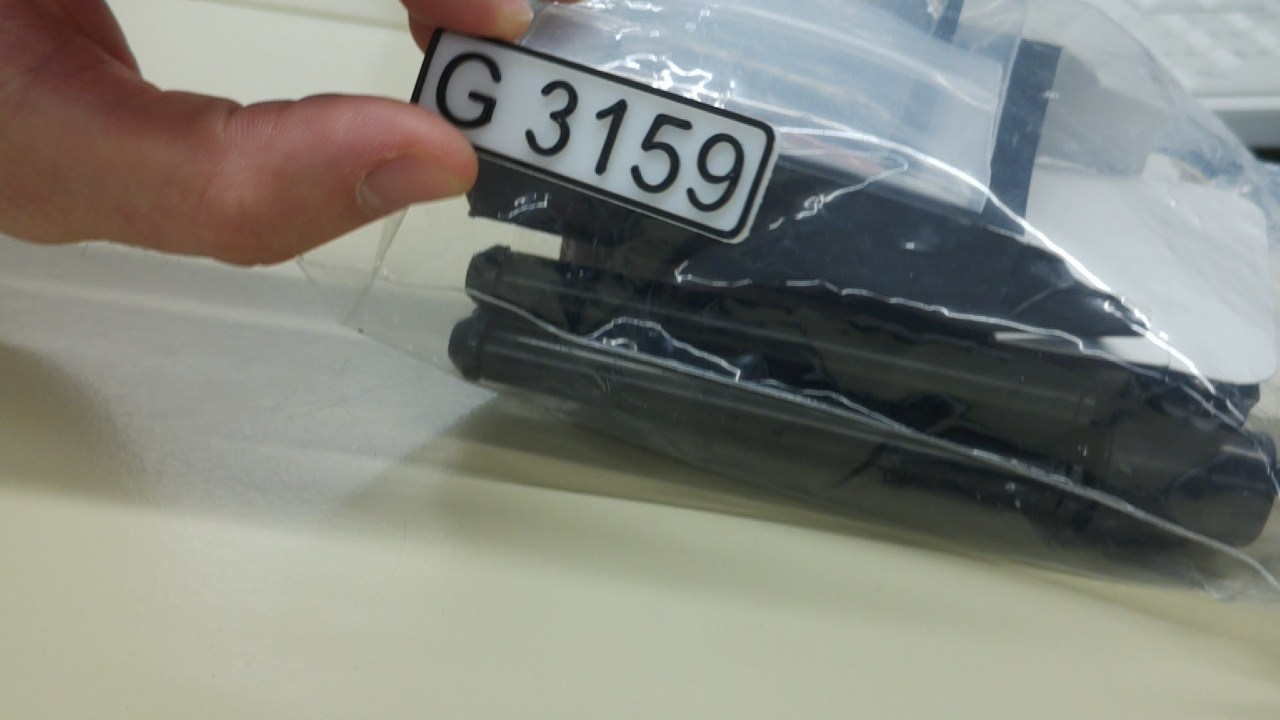license_plate: (398, 13, 790, 269)
